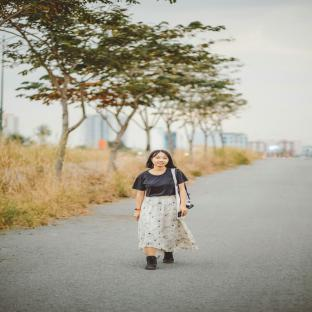Human: (132, 150, 198, 270)
